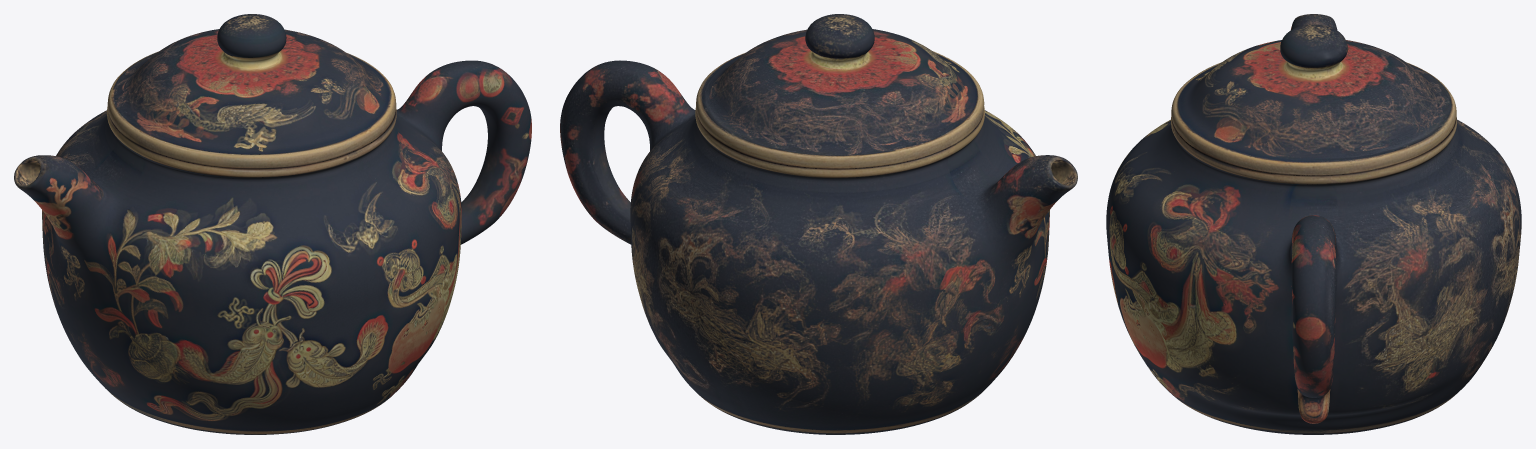
The model's file is 宜兴窑紫砂胎黑漆描金“吉庆有余”纹执壶.glb.
3 views of the same model, side by side, from view 1: azimuth 30°, elevation 25°; view 2: azimuth 150°, elevation 25°; view 3: azimuth 270°, elevation 25° (orthographic). The views are drawn at different scales.
Parts seen in each view (by area): view 1: tripo_node_12226a82; view 2: tripo_node_12226a82; view 3: tripo_node_12226a82.
Boxes of the visible parts, left/top/right/bottom form: tripo_node_12226a82: left=14, top=14, right=531, bottom=434; tripo_node_12226a82: left=560, top=14, right=1077, bottom=434; tripo_node_12226a82: left=1106, top=14, right=1521, bottom=434.
Bounding box in the file's own units: 97.98 × 64.51 × 70.48.
1 material, 1 textured.
